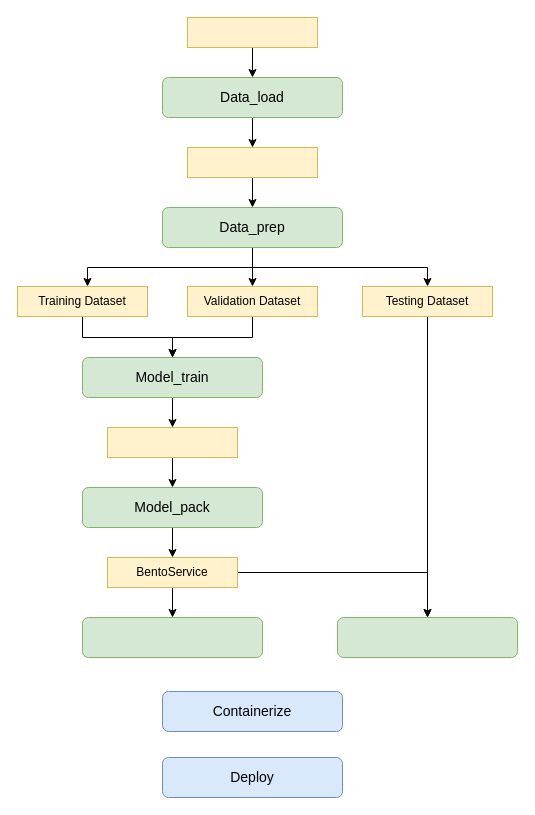
Some shapes in this 535 by 815 pixel diagram are drawn without their labels. The centre of each missing label's shape, as x and y in pixels:
external URL`s: the point at 252,32
Inference Files: the point at 172,442
Model_eval: the point at 427,637
Model_test: the point at 172,637
Normalized Data: the point at 252,162
